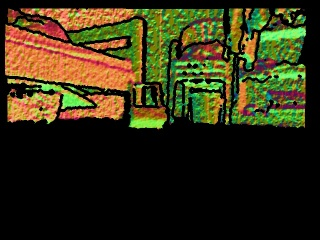station: (125, 82, 169, 129)
